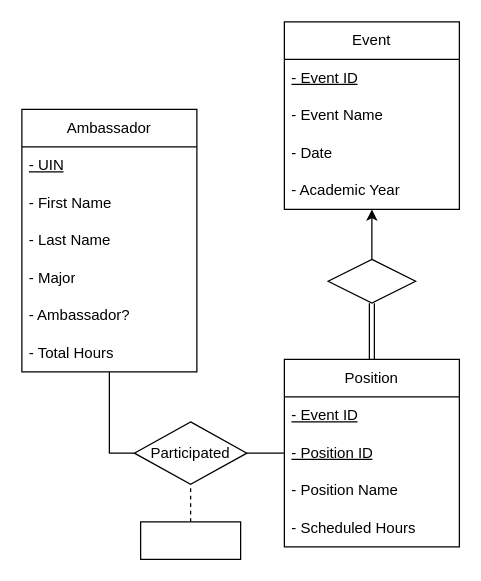
The diagram is 481 pixels wide and 581 high, and some of its shapes have lost their labels. The shapes that lost their labels are listed below. From the top down, each one's centre as x and y in pixels, then its label:
At point (371, 280): "Has".
At point (190, 540): "Hour Modifier".
